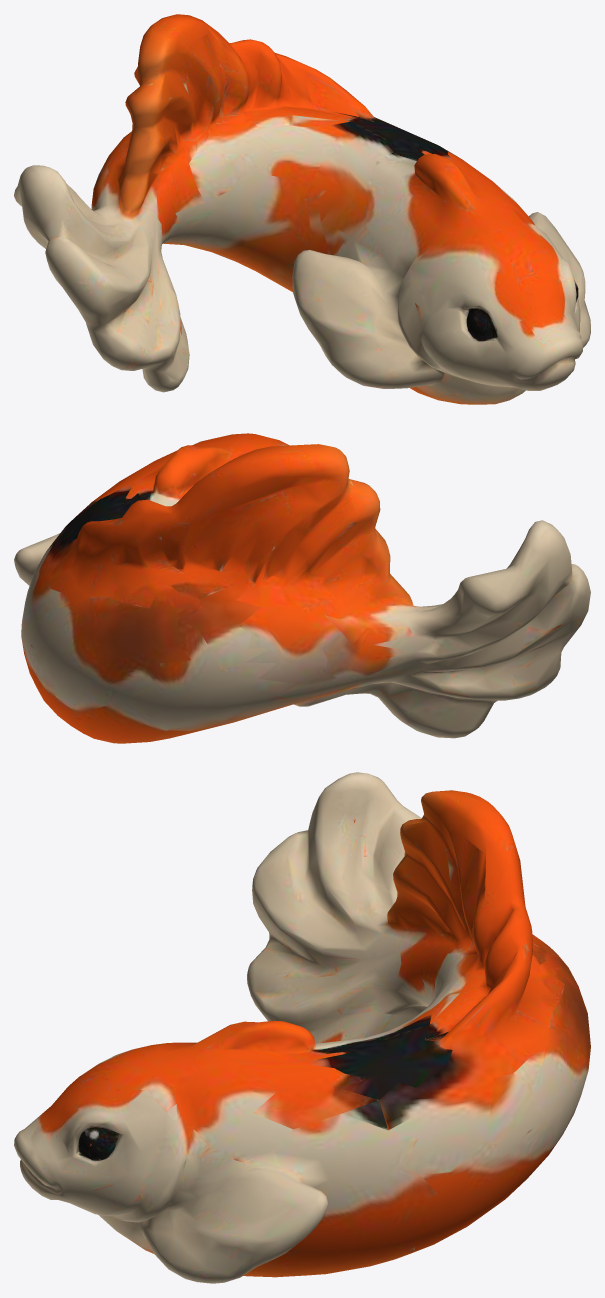
Rendered from koi.glb.
The picture shows the model from 3 angles, top to bottom: view 1: azimuth 30°, elevation 25°; view 2: azimuth 150°, elevation 25°; view 3: azimuth 270°, elevation 25°; orthographic projection. The views are drawn at different scales.
Size of the model in its own units: 1.59 by 1 by 1.41.
Materials: 1 (1 with a texture image).
